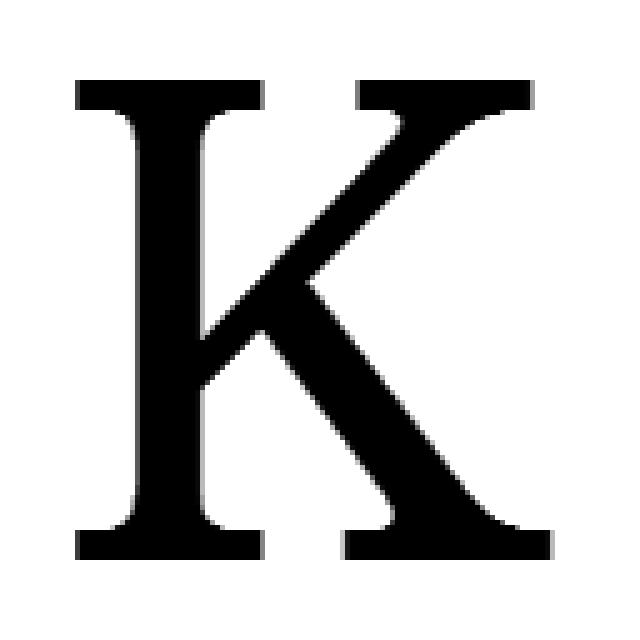K: (57, 79, 564, 560)
